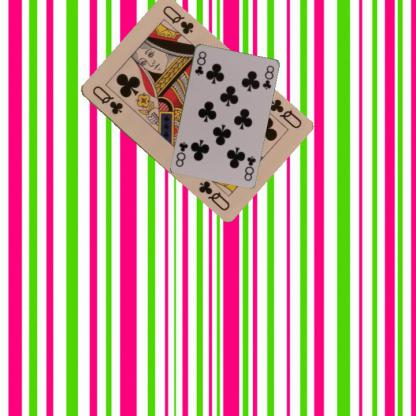8c: (192, 48, 207, 77), (242, 153, 256, 182)
Qc: (266, 96, 303, 130), (89, 83, 124, 116)
